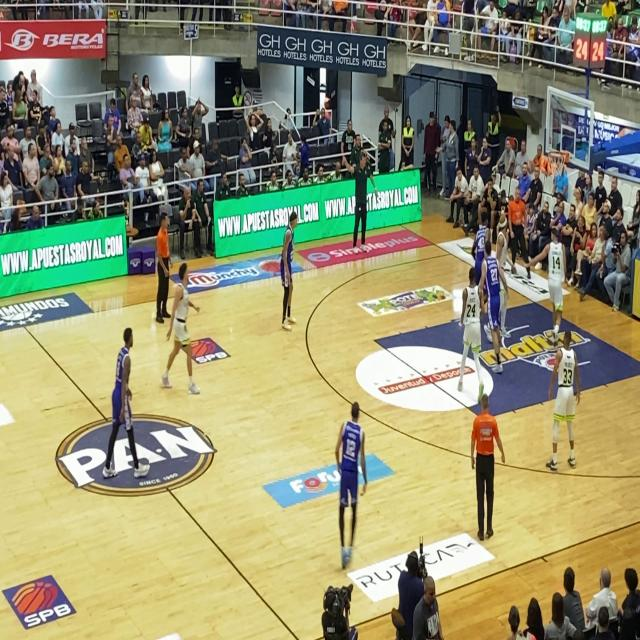referee: (460, 391, 506, 548), (148, 213, 174, 329)
team1: (546, 323, 583, 469), (167, 258, 202, 404), (539, 225, 574, 338)
team2: (332, 392, 373, 566), (104, 318, 140, 484), (481, 231, 514, 360), (276, 210, 302, 323)
ubasket: (546, 149, 567, 180)
